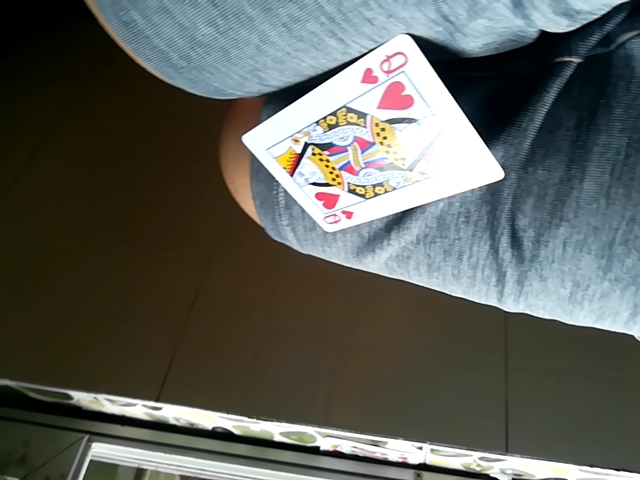hx q: (240, 33, 510, 236)
